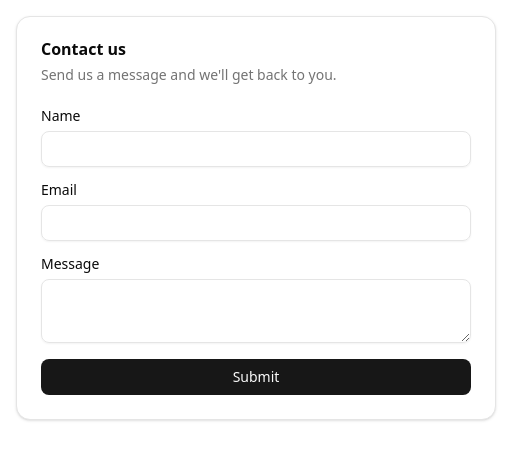
Scenario: Contact form (home page) › shows an email-format error for a malformed email and no confirmation
The image size is (513, 466).
Type "Jane Doe" into the field labelled "Name" at (256, 149), box [41, 131, 471, 167]
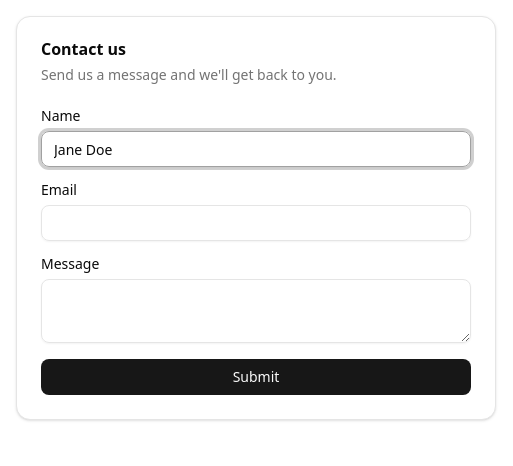
Type "bob@" into the field labelled "Email" at (256, 223), box [41, 205, 471, 241]
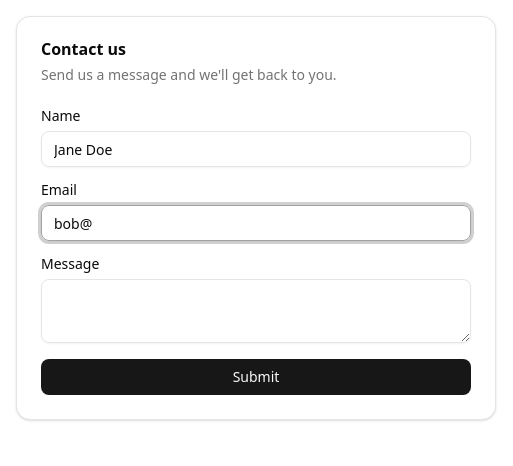
Type "Hello, I would like to get in touch." into the text box labelled "Message" at (256, 311), box [41, 279, 471, 343]
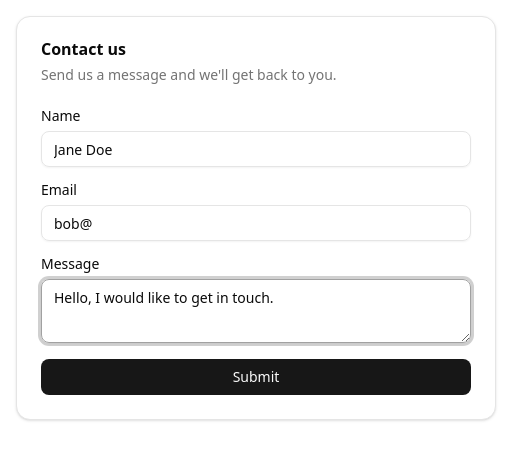
Click the button "Submit" at (256, 377), box [41, 359, 471, 395]
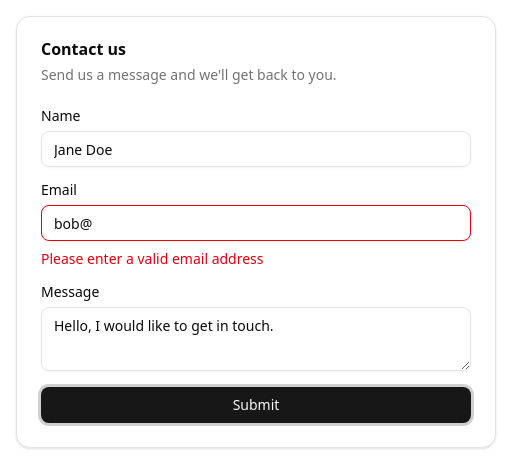
Expected: the text "Please enter a valid email address" is shown, [41, 249, 264, 268]
